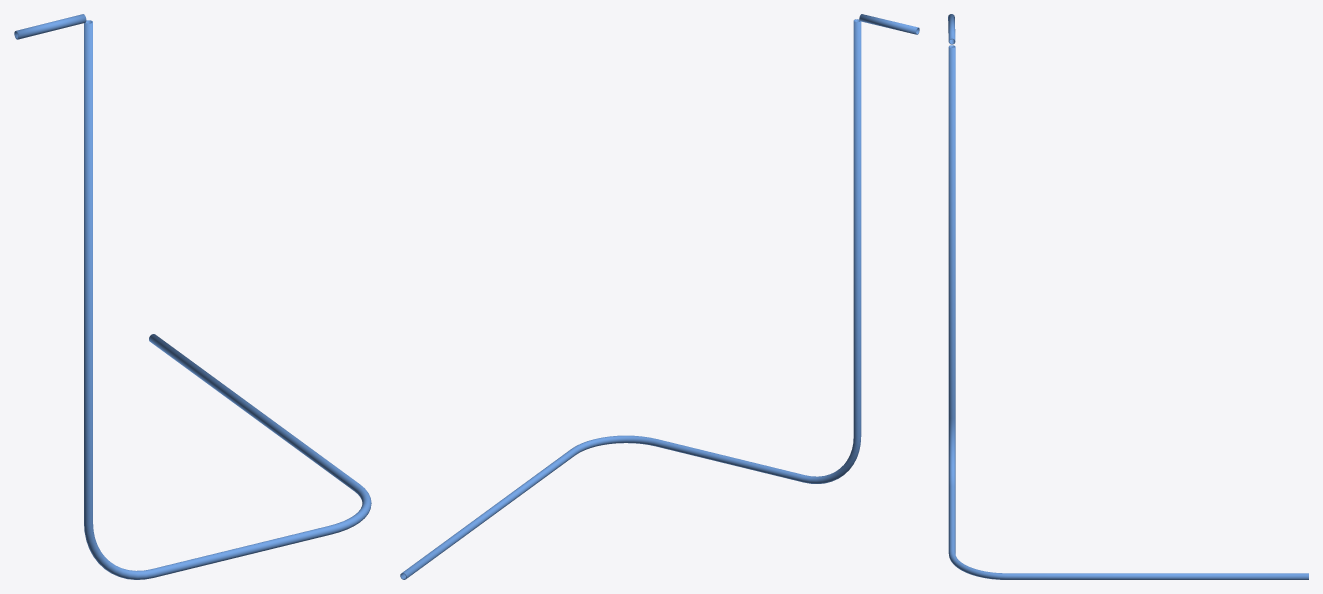
File: pipes_supply__water_heater__86824b80.glb
The picture shows the model from 3 angles, left to right: view 1: azimuth 30°, elevation 25°; view 2: azimuth 150°, elevation 25°; view 3: azimuth 270°, elevation 25°; orthographic projection. The views are drawn at different scales.
Visible parts, largest first — view 1: pipe_supply_cold_riser_flo_s__pex; view 2: pipe_supply_cold_riser_flo_s__pex; view 3: pipe_supply_cold_riser_flo_s__pex.
Boxes of the visible parts, box(x1,y1,x2,y2) form: pipe_supply_cold_riser_flo_s__pex: box(14, 14, 371, 579); pipe_supply_cold_riser_flo_s__pex: box(400, 14, 919, 579); pipe_supply_cold_riser_flo_s__pex: box(948, 14, 1308, 579).
Size of the model in its own units: 1.07 by 1.55 by 1.18.
